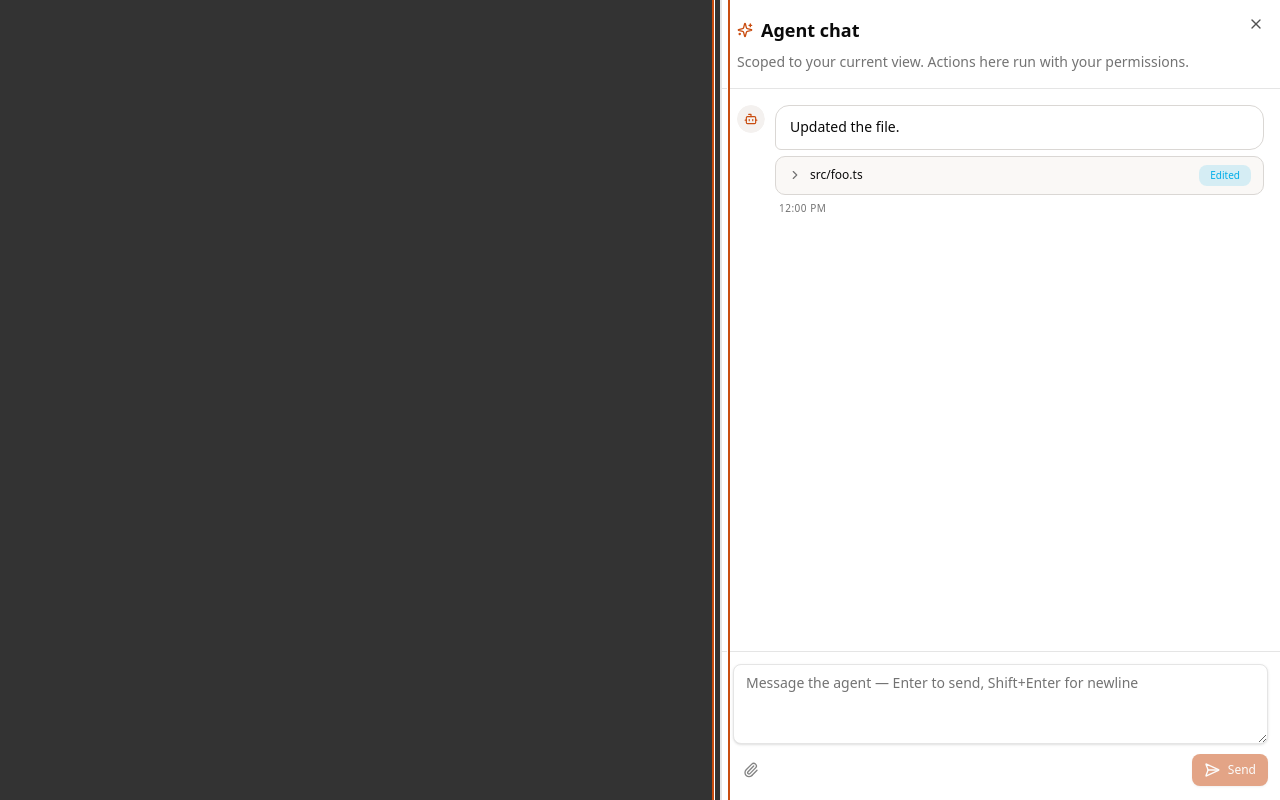
Test: AgentChatDrawer — code.diff rendering › does not render diff content until the card has been expanded, then shows the real before/after lines
This screenshot has width=1280, height=800.
expect the text "foo = 1" is not shown: met
expect the text "foo = 2" is not shown: met
Click the button "src/foo.ts edited". click: click(836, 175)
box: x1=776 y1=157 x2=1263 y2=194
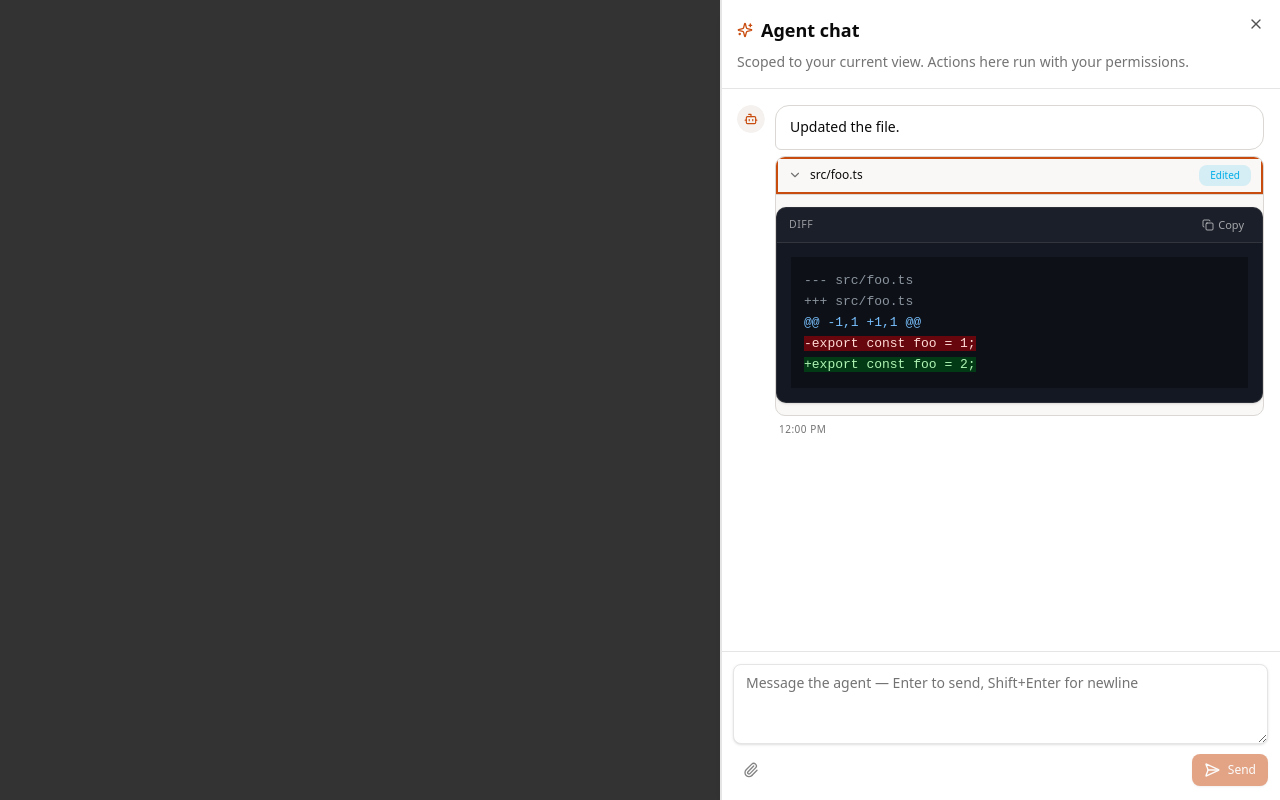
expect the text "-export const foo = 1;" is shown: met, box x1=804 y1=336 x2=976 y2=351
expect the text "+export const foo = 2;" is shown: met, box x1=804 y1=357 x2=976 y2=372
